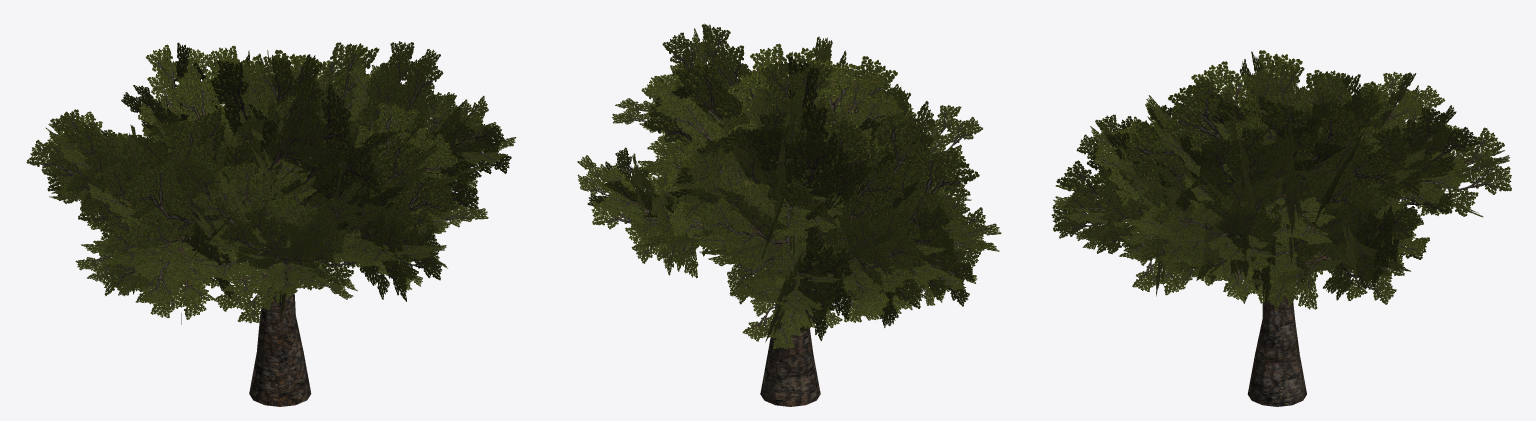
The model's file is broadleaf.glb.
3 renders of one model, left to right at view 1: azimuth 30°, elevation 25°; view 2: azimuth 150°, elevation 25°; view 3: azimuth 270°, elevation 25°, orthographic. The views are drawn at different scales.
Parts seen in each view (by area): view 1: broadleaf; view 2: broadleaf; view 3: broadleaf.
Boxes of the visible parts, <box> form: broadleaf: <box>26,41,516,406</box>; broadleaf: <box>577,23,1001,406</box>; broadleaf: <box>1051,50,1511,406</box>.
Size of the model in its own units: 1.15 by 1 by 1.21.
1 material, 1 textured.
